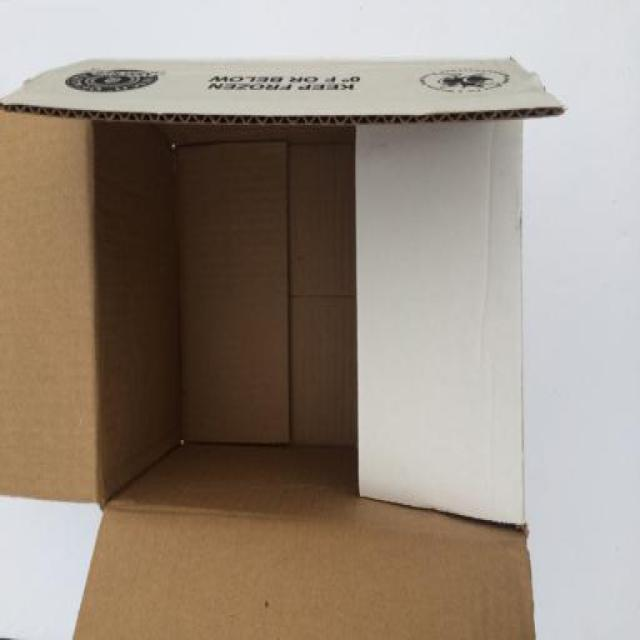cardboard: (0, 55, 568, 640)
